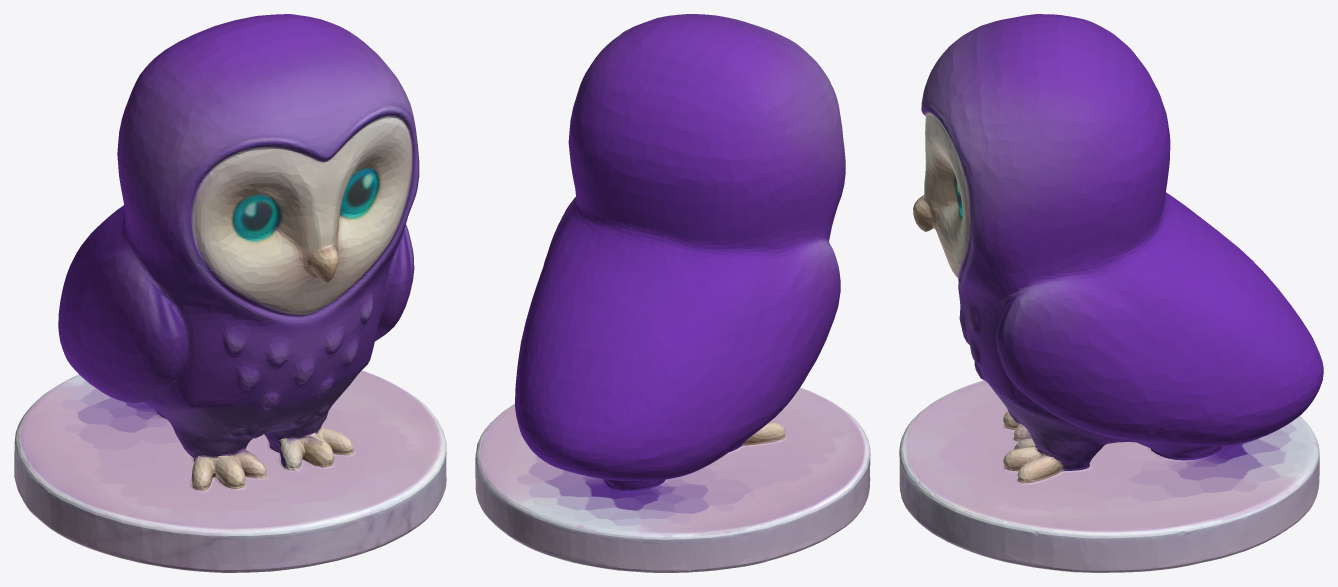
File: fig-33.glb
The picture shows the model from 3 angles, left to right: view 1: azimuth 30°, elevation 25°; view 2: azimuth 150°, elevation 25°; view 3: azimuth 270°, elevation 25°; orthographic projection. The views are drawn at different scales.
Visible parts, largest first — view 1: tmp0m7w0bpw.ply; view 2: tmp0m7w0bpw.ply; view 3: tmp0m7w0bpw.ply.
Boxes of the visible parts, left/top/right/bottom form: tmp0m7w0bpw.ply: left=14, top=14, right=446, bottom=572; tmp0m7w0bpw.ply: left=475, top=14, right=870, bottom=572; tmp0m7w0bpw.ply: left=899, top=14, right=1323, bottom=572.
Bounding box in the file's own units: 1.62 × 1.99 × 1.68.
Materials: 1 (1 with a texture image).
